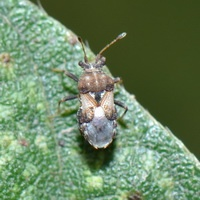insect: (52, 32, 127, 148)
